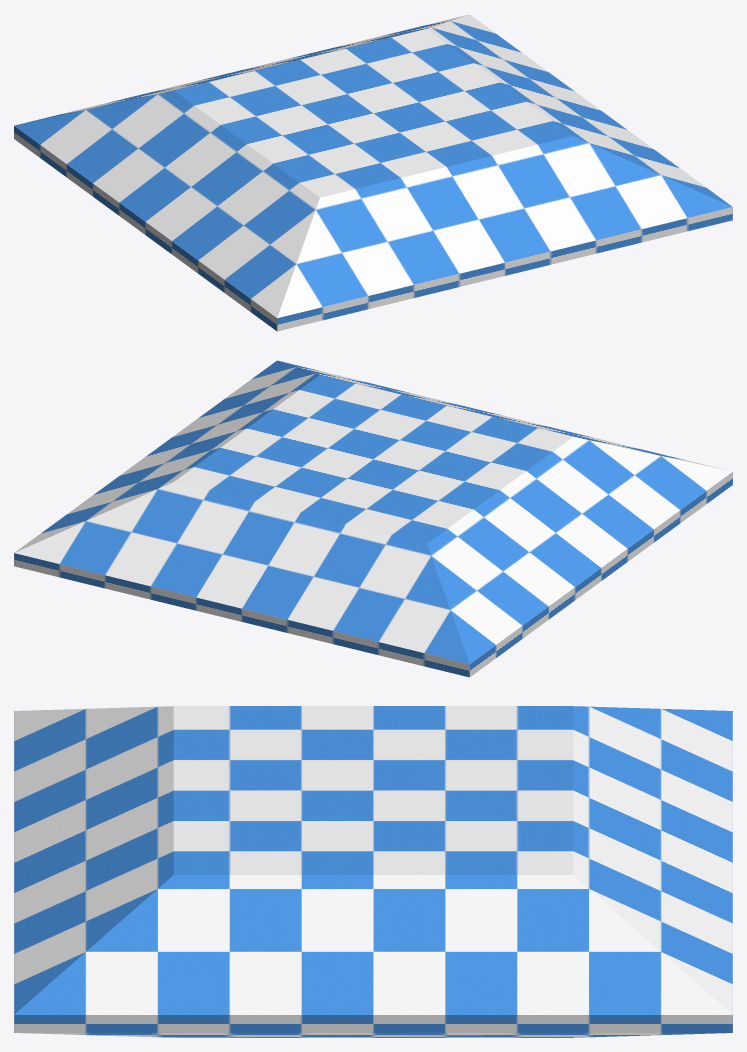
File: TableCutDouble.FBX
The picture shows the model from 3 angles, top to bottom: view 1: azimuth 30°, elevation 25°; view 2: azimuth 150°, elevation 25°; view 3: azimuth 270°, elevation 25°; orthographic projection. The views are drawn at different scales.
Visible parts, largest first — view 1: TableCutDouble; view 2: TableCutDouble; view 3: TableCutDouble.
Boxes of the visible parts, x1=… form: TableCutDouble: x1=14, y1=14, x2=732, y2=331; TableCutDouble: x1=14, y1=360, x2=732, y2=677; TableCutDouble: x1=14, y1=706, x2=732, y2=1037.
Bounding box in the file's own units: 1.14 × 0.2858 × 1.14.
